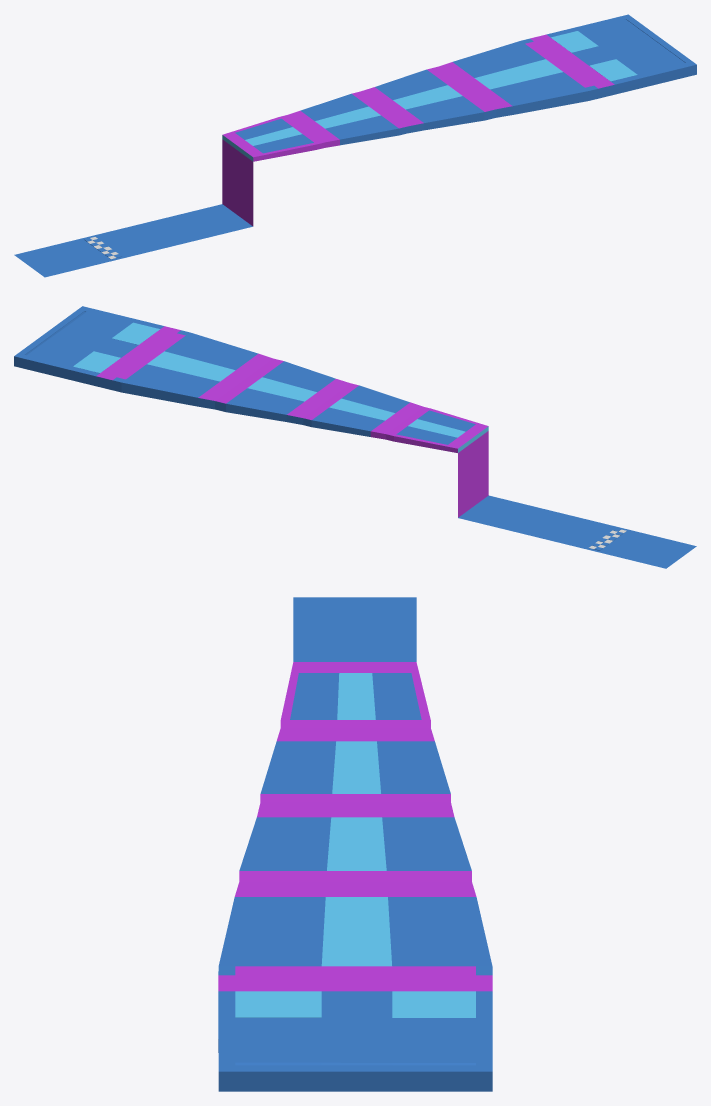
Rendered from Ground.fbx.
3 renders of one model, top to bottom at view 1: azimuth 30°, elevation 25°; view 2: azimuth 150°, elevation 25°; view 3: azimuth 270°, elevation 25°, orthographic. The views are drawn at different scales.
Visible parts, largest first — view 1: Plane; view 2: Plane; view 3: Plane.
Boxes of the visible parts, bbox=[...] form: Plane: bbox=[14, 14, 696, 277]; Plane: bbox=[14, 306, 696, 568]; Plane: bbox=[218, 597, 492, 1091].
Size of the model in its own units: 24541 by 2668 by 4600.
